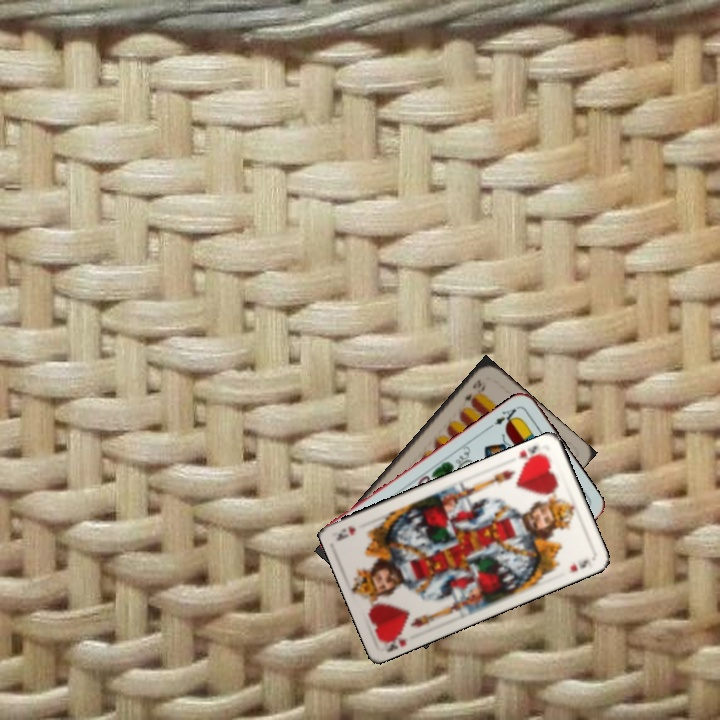E10: (458, 375, 488, 408)
EA: (485, 403, 521, 431)
HK: (514, 441, 548, 467), (378, 627, 409, 655)
